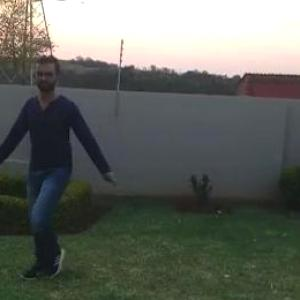land: (0, 54, 127, 282)
